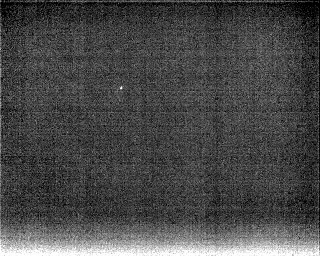BIRD: (117, 83, 125, 93)
